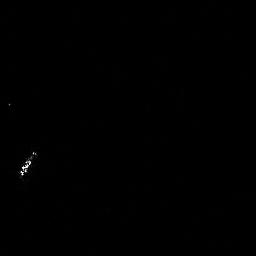ship: (19, 150, 37, 178)
